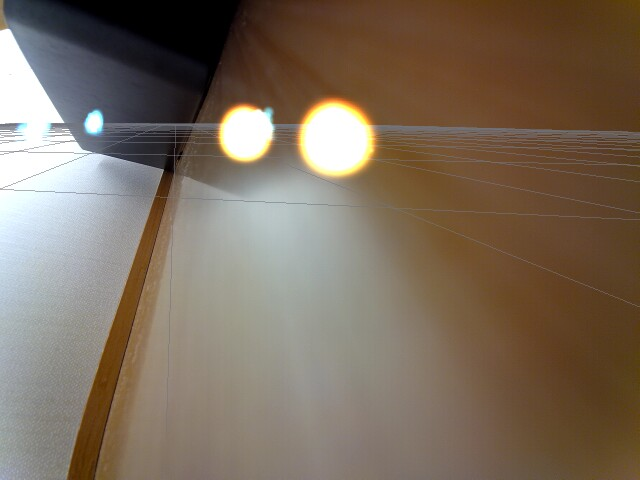firebig: (290, 88, 381, 187)
